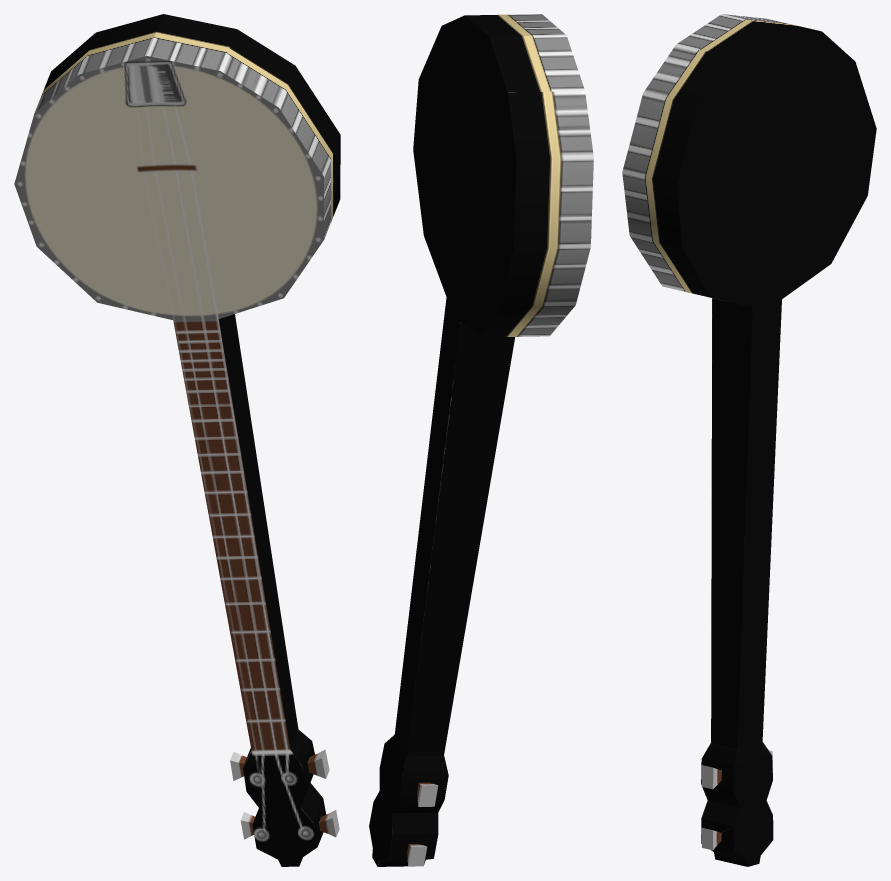
The model's file is Guitarra1_000021.obj.
3 views of the same model, side by side, from view 1: azimuth 30°, elevation 25°; view 2: azimuth 150°, elevation 25°; view 3: azimuth 270°, elevation 25° (orthographic). The views are drawn at different scales.
Visible parts, largest first — view 1: g1_pCube6; view 2: g1_pCube6; view 3: g1_pCube6.
Part boxes in pixels (x1=…): g1_pCube6: x1=14, y1=14, x2=340, y2=866; g1_pCube6: x1=369, y1=14, x2=593, y2=866; g1_pCube6: x1=622, y1=14, x2=876, y2=866.
Bounding box in the file's own units: 4.34 × 13.33 × 3.9.
